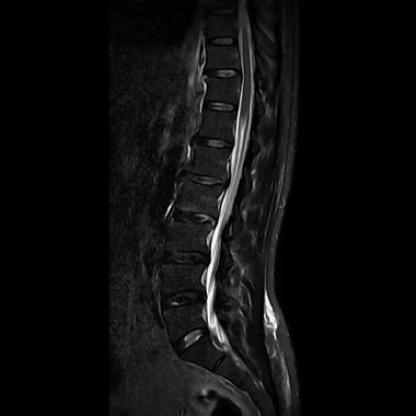Annular Tearrotation: (158, 286, 204, 311)
Disc Bulgerotation: (158, 287, 204, 312), (165, 208, 216, 228), (159, 248, 210, 267)
Disc Protrusionrotation: (185, 172, 226, 189)
